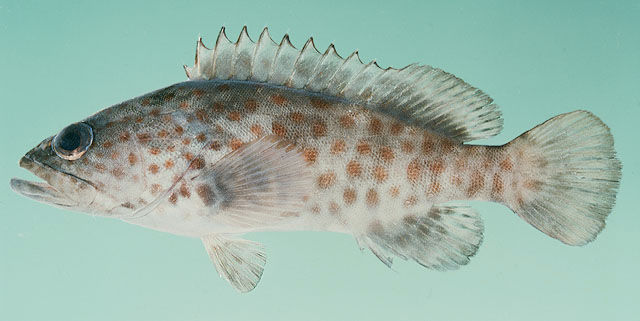fish: (10, 24, 624, 293)
